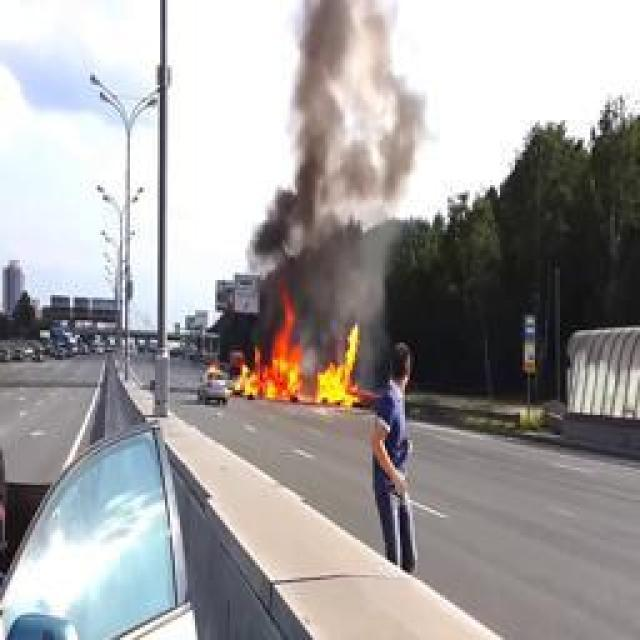Fire: (231, 281, 364, 409)
